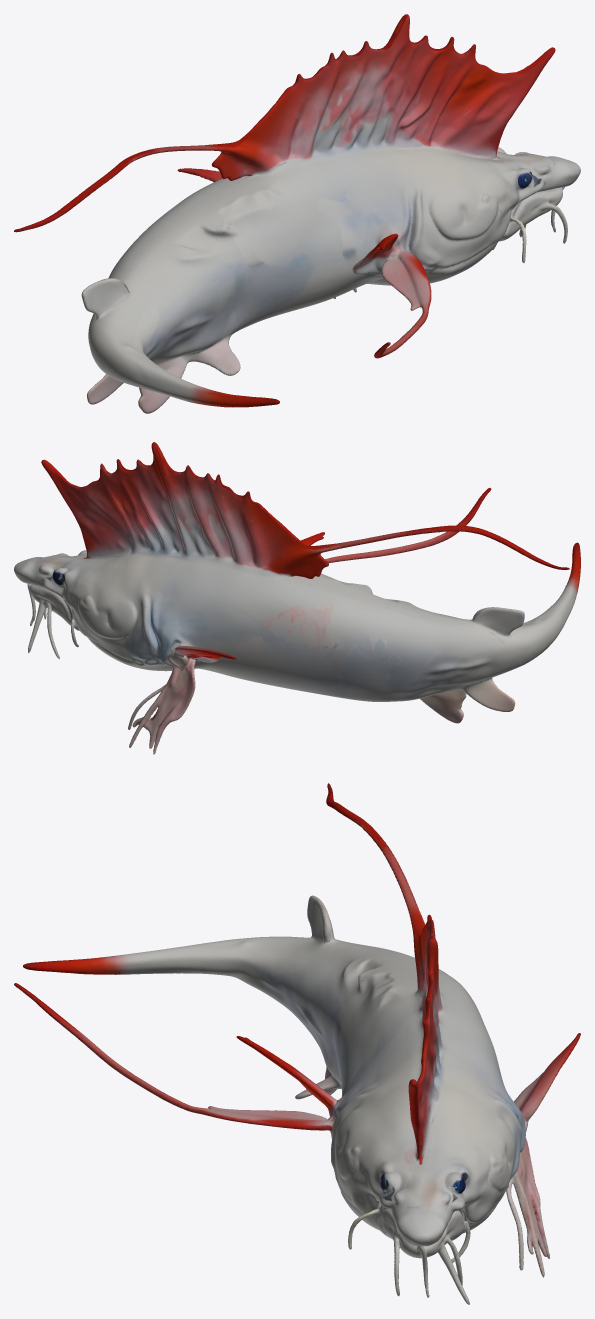
File: real_oarfish_c.glb
3 views of the same model, one above another, from view 1: azimuth 30°, elevation 25°; view 2: azimuth 150°, elevation 25°; view 3: azimuth 270°, elevation 25° (orthographic). The views are drawn at different scales.
Parts seen in each view (by area): view 1: tripo_node_f16b1570-a178-4106-af71-3fadfd803322; view 2: tripo_node_f16b1570-a178-4106-af71-3fadfd803322; view 3: tripo_node_f16b1570-a178-4106-af71-3fadfd803322.
Part boxes in pixels (bbox=[...]): tripo_node_f16b1570-a178-4106-af71-3fadfd803322: bbox=[14, 14, 580, 413]; tripo_node_f16b1570-a178-4106-af71-3fadfd803322: bbox=[14, 442, 580, 754]; tripo_node_f16b1570-a178-4106-af71-3fadfd803322: bbox=[14, 783, 580, 1304].
Bounding box in the file's own units: 1 × 0.4982 × 0.7295.
Materials: 1 (1 with a texture image).
